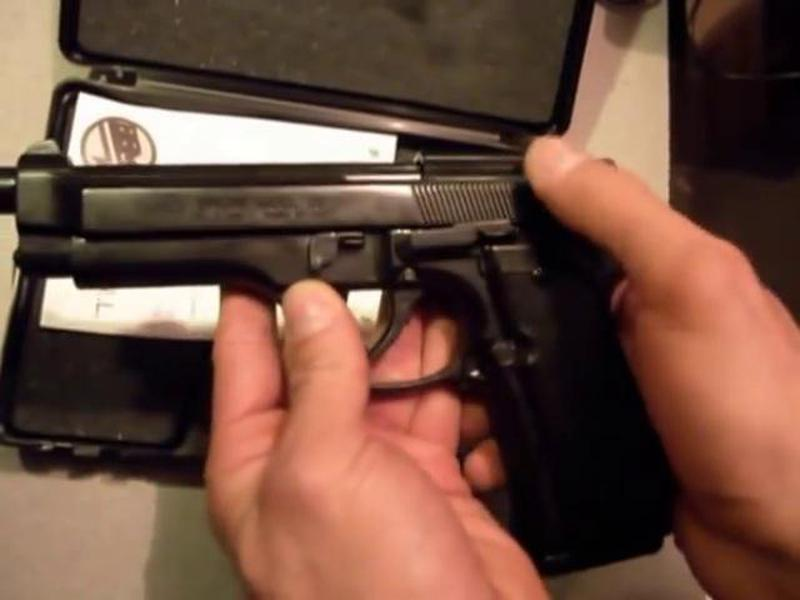Pistola: (8, 115, 673, 551)
